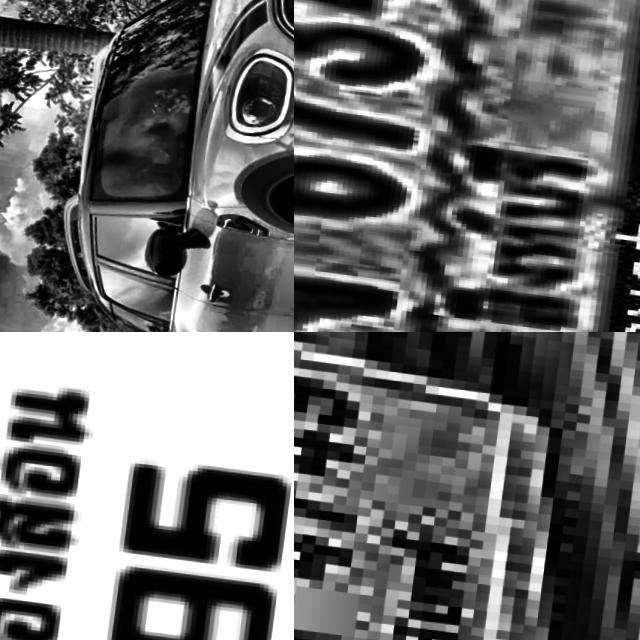license-plate: (294, 0, 640, 332), (294, 332, 640, 640), (0, 332, 294, 640)
